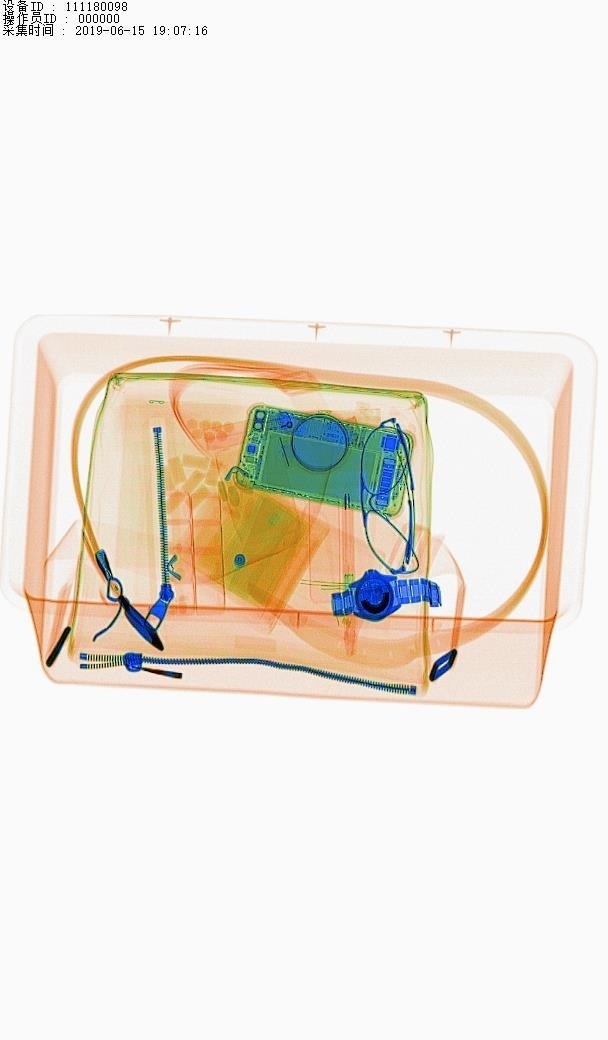NonmetallicFire: (197, 406, 301, 456)
